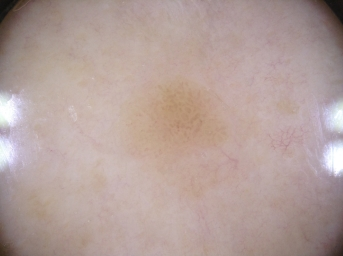seborrheic keratosis: (109, 60, 254, 186)
